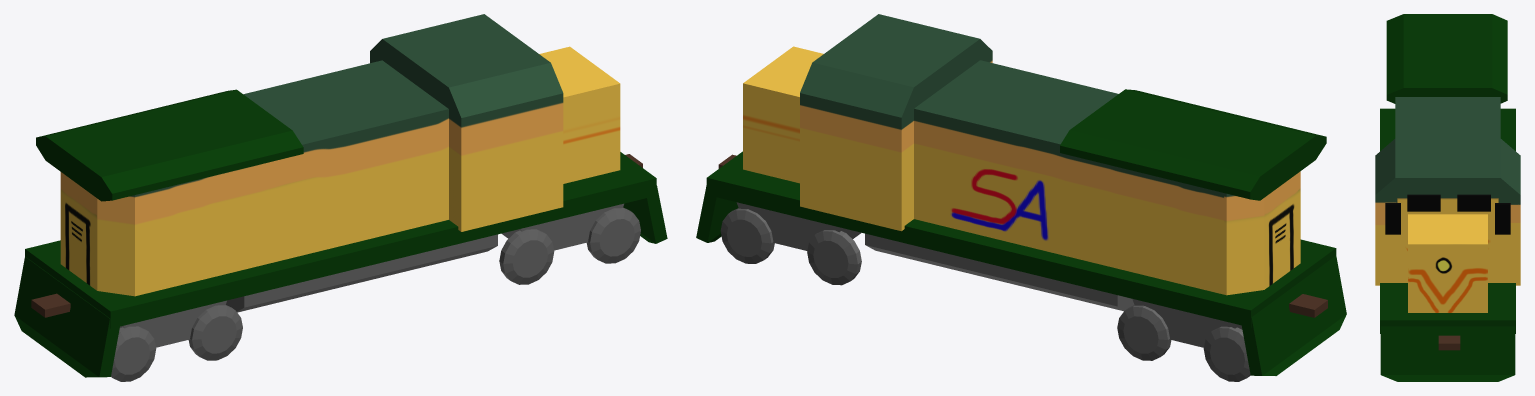
Rendered from trainhead.glb.
The picture shows the model from 3 angles, left to right: view 1: azimuth 30°, elevation 25°; view 2: azimuth 150°, elevation 25°; view 3: azimuth 270°, elevation 25°; orthographic projection. The views are drawn at different scales.
Visible parts, largest first — view 1: Cube.001, Cube.002, Cube, Cylinder, Cube.004, Cube.003, Cube.005, Cube.006; view 2: Cube.001, Cube.002, Cube, Cylinder, Cube.004, Cube.003, Cube.005, Cube.006; view 3: Cube.001, Cube.002, Cube.004, Cube, Cube.008, Cube.007, Cube.006.
Boxes of the visible parts, x1,y1,x2,y2 form: Cube.001: [60, 14, 620, 296]; Cube.002: [36, 89, 303, 201]; Cube: [25, 152, 656, 328]; Cylinder: [111, 207, 640, 381]; Cube.004: [14, 185, 667, 377]; Cube.003: [226, 234, 497, 312]; Cube.005: [120, 203, 623, 347]; Cube.006: [31, 154, 642, 317]; Cube.001: [743, 14, 1300, 295]; Cube.002: [1060, 89, 1326, 200]; Cube: [706, 151, 1336, 327]; Cylinder: [720, 208, 1250, 381]; Cube.004: [696, 185, 1346, 375]; Cube.003: [865, 233, 1134, 311]; Cube.005: [736, 202, 1242, 347]; Cube.006: [718, 154, 1327, 317]; Cube.001: [1375, 97, 1520, 312]; Cube.002: [1386, 14, 1507, 103]; Cube.004: [1380, 326, 1515, 381]; Cube: [1380, 108, 1515, 333]; Cube.008: [1407, 194, 1490, 211]; Cube.007: [1385, 203, 1510, 234]; Cube.006: [1438, 335, 1460, 350].
Bounding box in the file's own units: 23.42 × 8.04 × 6.21.
Materials: 5 (1 with a texture image).
